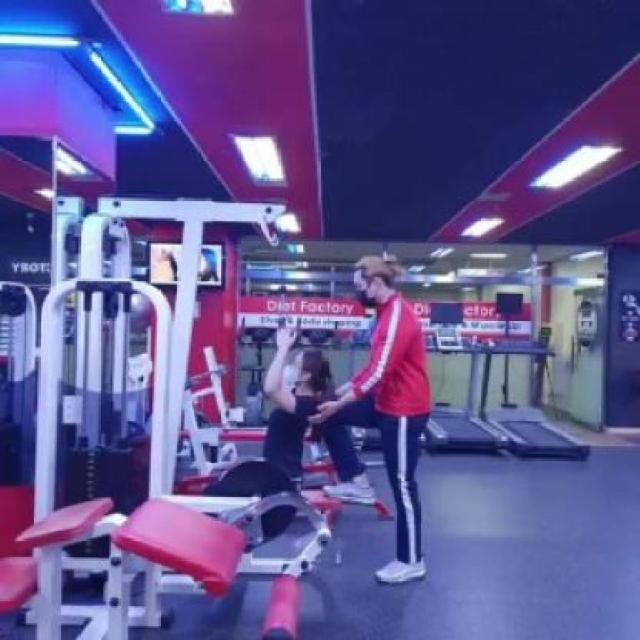Lat Pull Down: (0, 137, 409, 640)
